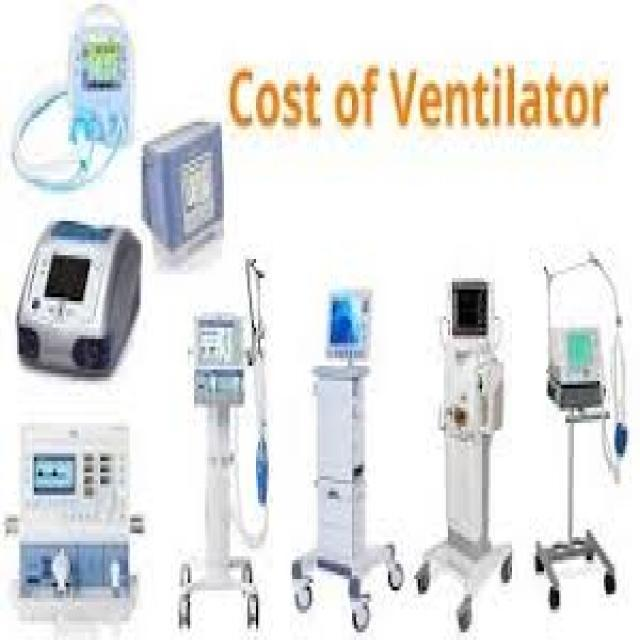ventilator: (181, 277, 299, 608), (437, 274, 517, 617)
